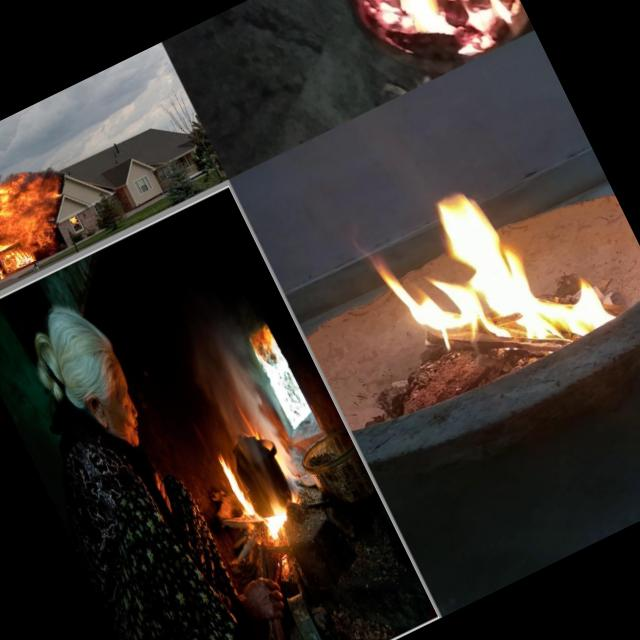fire: (336, 136, 626, 416), (205, 428, 296, 555), (383, 0, 534, 70), (333, 0, 444, 84), (0, 142, 70, 272), (235, 403, 265, 447), (0, 244, 36, 273), (0, 264, 7, 282), (70, 215, 80, 225)
smoke: (246, 395, 314, 507), (198, 314, 273, 406), (180, 340, 243, 437)
